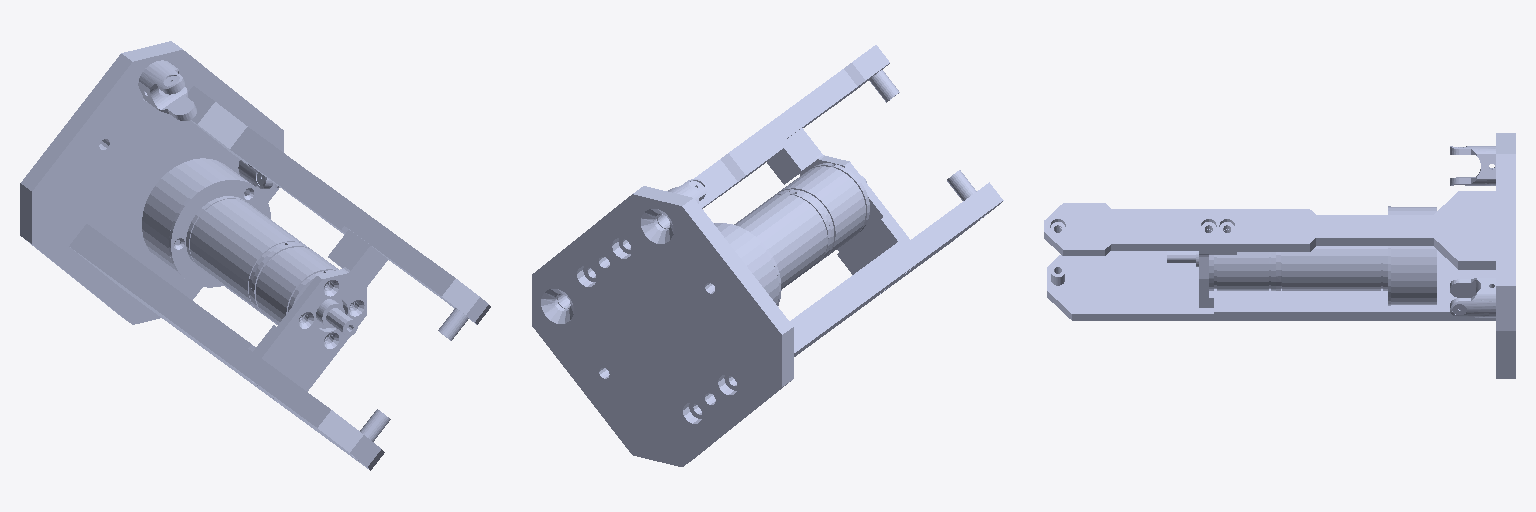
URDF robot description (urdf):
<?xml version="1.0" encoding="utf-8"?>
<!-- This URDF was automatically created by SolidWorks to URDF Exporter! Originally created by [author] ([email redacted]) 
     Commit Version: 1.6.0-4-g7f85cfe  Build Version: 1.6.7995.38578
     For more information, please see http://wiki.ros.org/sw_urdf_exporter -->
<robot
  name="urdf">
  <link
    name="base_link">
    <inertial>
      <origin
        xyz="0.000160852559340272 0.416511988266863 0.00522519390962018"
        rpy="0 0 0" />
      <mass
        value="6.60658072927865" />
      <inertia
        ixx="0.205461268695088"
        ixy="-4.8631130134879E-08"
        ixz="3.31309244336347E-09"
        iyy="0.0632251395598791"
        iyz="-4.46121098307276E-09"
        izz="0.213924141252687" />
    </inertial>
    <visual>
      <origin
        xyz="0 0 0"
        rpy="0 0 0" />
      <geometry>
        <mesh
          filename="package://urdf/meshes/base_link.STL" />
      </geometry>
      <material
        name="">
        <color
          rgba="0.792156862745098 0.819607843137255 0.933333333333333 1" />
      </material>
    </visual>
    <collision>
      <origin
        xyz="0 0 0"
        rpy="0 0 0" />
      <geometry>
        <mesh
          filename="package://urdf/meshes/base_link.STL" />
      </geometry>
    </collision>
  </link>
  <link
    name="s1">
    <inertial>
      <origin
        xyz="-0.0565855661773653 -1.47432999124675E-05 0.0503451976338493"
        rpy="0 0 0" />
      <mass
        value="0.542684124579144" />
      <inertia
        ixx="0.000345761092952399"
        ixy="-3.24050500600486E-07"
        ixz="1.50683178516403E-07"
        iyy="0.000778022471193682"
        iyz="1.07326375799424E-08"
        izz="0.000776671252305068" />
    </inertial>
    <visual>
      <origin
        xyz="0 0 0"
        rpy="0 0 0" />
      <geometry>
        <mesh
          filename="package://urdf/meshes/s1.STL" />
      </geometry>
      <material
        name="">
        <color
          rgba="0.792156862745098 0.819607843137255 0.933333333333333 1" />
      </material>
    </visual>
    <collision>
      <origin
        xyz="0 0 0"
        rpy="0 0 0" />
      <geometry>
        <mesh
          filename="package://urdf/meshes/s1.STL" />
      </geometry>
    </collision>
  </link>
  <joint
    name="s1j"
    type="revolute">
    <origin
      xyz="0 -0.1455 1.1455"
      rpy="1.5708 0 0" />
    <parent
      link="base_link" />
    <child
      link="s1" />
    <axis
      xyz="0 0 1" />
    <limit
      lower="-0.78"
      upper="0.78"
      effort="0"
      velocity="0.35" />
  </joint>
  <link
    name="s2">
    <inertial>
      <origin
        xyz="0.0265368019978267 -0.0360762146328593 0.00202591662662588"
        rpy="0 0 0" />
      <mass
        value="0.0397003268136184" />
      <inertia
        ixx="1.77539568949169E-05"
        ixy="-5.49265597337707E-08"
        ixz="4.46961963342789E-21"
        iyy="9.62749691816005E-06"
        iyz="5.5659379414233E-21"
        izz="1.53865784423673E-05" />
    </inertial>
    <visual>
      <origin
        xyz="0 0 0"
        rpy="0 0 0" />
      <geometry>
        <mesh
          filename="package://urdf/meshes/s2.STL" />
      </geometry>
      <material
        name="">
        <color
          rgba="0.792156862745098 0.819607843137255 0.933333333333333 1" />
      </material>
    </visual>
    <collision>
      <origin
        xyz="0 0 0"
        rpy="0 0 0" />
      <geometry>
        <mesh
          filename="package://urdf/meshes/s2.STL" />
      </geometry>
    </collision>
  </link>
  <joint
    name="s2j"
    type="revolute">
    <origin
      xyz="0 0 0.05"
      rpy="0 0 0" />
    <parent
      link="s1" />
    <child
      link="s2" />
    <axis
      xyz="-1 0 0" />
    <limit
      lower="0"
      upper="1.57"
      effort="0"
      velocity="0.35" />
  </joint>
  <link
    name="s3">
    <inertial>
      <origin
        xyz="-0.0307852686146159 -0.106762715233885 -0.00285680761161178"
        rpy="0 0 0" />
      <mass
        value="0.69346525440976" />
      <inertia
        ixx="0.000632226154715784"
        ixy="3.3846916742775E-06"
        ixz="-2.03216958615076E-06"
        iyy="0.000203793561582271"
        iyz="-7.69131798756883E-08"
        izz="0.000626858789980171" />
    </inertial>
    <visual>
      <origin
        xyz="0 0 0"
        rpy="0 0 0" />
      <geometry>
        <mesh
          filename="package://urdf/meshes/s3.STL" />
      </geometry>
      <material
        name="">
        <color
          rgba="0.792156862745098 0.819607843137255 0.933333333333333 1" />
      </material>
    </visual>
    <collision>
      <origin
        xyz="0 0 0"
        rpy="0 0 0" />
      <geometry>
        <mesh
          filename="package://urdf/meshes/s3.STL" />
      </geometry>
    </collision>
  </link>
  <joint
    name="s3j"
    type="revolute">
    <origin
      xyz="-0.00345 -0.06 0.0036"
      rpy="0 0 0" />
    <parent
      link="s2" />
    <child
      link="s3" />
    <axis
      xyz="0 -1 0" />
    <limit
      lower="-1.57"
      upper="1.57"
      effort="0"
      velocity="0.35" />
  </joint>
  <link
    name="e">
    <inertial>
      <origin
        xyz="0.133914313079551 0.0397090138567681 -0.00135370354868536"
        rpy="0 0 0" />
      <mass
        value="0.524484949455585" />
      <inertia
        ixx="0.000164098535625993"
        ixy="-0.00011555456704967"
        ixz="-1.49937999308697E-06"
        iyy="0.000491486729879123"
        iyz="5.4210279008361E-06"
        izz="0.000537801635705856" />
    </inertial>
    <visual>
      <origin
        xyz="0 0 0"
        rpy="0 0 0" />
      <geometry>
        <mesh
          filename="package://urdf/meshes/e.STL" />
      </geometry>
      <material
        name="">
        <color
          rgba="0.792156862745098 0.819607843137255 0.933333333333333 1" />
      </material>
    </visual>
    <collision>
      <origin
        xyz="0 0 0"
        rpy="0 0 0" />
      <geometry>
        <mesh
          filename="package://urdf/meshes/e.STL" />
      </geometry>
    </collision>
  </link>
  <joint
    name="ej"
    type="revolute">
    <origin
      xyz="-0.005 -0.2835 0"
      rpy="0 0 -0.28935" />
    <parent
      link="s3" />
    <child
      link="e" />
    <axis
      xyz="0 0 1" />
    <limit
      lower="-1.4"
      upper="0.184"
      effort="0"
      velocity="0.13" />
  </joint>
  <link
    name="roll">
    <inertial>
      <origin
        xyz="2.11649564541005E-08 2.17253527112771E-08 -5.72361158468482E-10"
        rpy="0 0 0" />
      <mass
        value="0.0123350072540482" />
      <inertia
        ixx="5.73140316108075E-06"
        ixy="2.39610064059149E-12"
        ixz="2.37221429275288E-12"
        iyy="3.0133459248538E-06"
        iyz="-2.51281711383088E-12"
        izz="3.01335111374677E-06" />
    </inertial>
    <visual>
      <origin
        xyz="0 0 0"
        rpy="0 0 0" />
      <geometry>
        <mesh
          filename="package://urdf/meshes/roll.STL" />
      </geometry>
      <material
        name="">
        <color
          rgba="0.792156862745098 0.819607843137255 0.933333333333333 1" />
      </material>
    </visual>
    <collision>
      <origin
        xyz="0 0 0"
        rpy="0 0 0" />
      <geometry>
        <mesh
          filename="package://urdf/meshes/roll.STL" />
      </geometry>
    </collision>
  </link>
  <joint
    name="rollj"
    type="revolute">
    <origin
      xyz="0.25159 0.0749 0"
      rpy="-1.5708 0 -2.8522" />
    <parent
      link="e" />
    <child
      link="roll" />
    <axis
      xyz="0 0.70711 0.70711" />
    <limit
      lower="-0.26"
      upper="0.26"
      effort="0"
      velocity="0.09" />
  </joint>
  <link
    name="pitch">
    <inertial>
      <origin
        xyz="0.0286089165171641 -0.000144661566694015 0.009855465038871"
        rpy="0 0 0" />
      <mass
        value="0.0576090249075869" />
      <inertia
        ixx="7.09168260696957E-05"
        ixy="-9.04854271559607E-09"
        ixz="-9.02484498992207E-09"
        iyy="3.68466285330398E-05"
        iyz="-3.7654782496613E-07"
        izz="3.68466243102646E-05" />
    </inertial>
    <visual>
      <origin
        xyz="0 0 0"
        rpy="0 0 0" />
      <geometry>
        <mesh
          filename="package://urdf/meshes/pitch.STL" />
      </geometry>
      <material
        name="">
        <color
          rgba="0.792156862745098 0.819607843137255 0.933333333333333 1" />
      </material>
    </visual>
    <collision>
      <origin
        xyz="0 0 0"
        rpy="0 0 0" />
      <geometry>
        <mesh
          filename="package://urdf/meshes/pitch.STL" />
      </geometry>
    </collision>
  </link>
  <joint
    name="pitchj"
    type="revolute">
    <origin
      xyz="0 0.01 0"
      rpy="-1.5708 0 3.1416" />
    <parent
      link="roll" />
    <child
      link="pitch" />
    <axis
      xyz="0 0.70711 -0.70711" />
    <limit
      lower="-0.26"
      upper="0.26"
      effort="0"
      velocity="0.09" />
  </joint>
  <link
    name="yaw">
    <inertial>
      <origin
        xyz="0.121145515511824 -0.00274393412138674 -0.00280619674961233"
        rpy="0 0 0" />
      <mass
        value="0.288045639627102" />
      <inertia
        ixx="0.000166764800385917"
        ixy="1.15318815602555E-05"
        ixz="-2.72502292894343E-07"
        iyy="0.000292613552431781"
        iyz="3.6036191451638E-08"
        izz="0.000214965635544534" />
    </inertial>
    <visual>
      <origin
        xyz="0 0 0"
        rpy="0 0 0" />
      <geometry>
        <mesh
          filename="package://urdf/meshes/yaw.STL" />
      </geometry>
      <material
        name="">
        <color
          rgba="0.792156862745098 0.819607843137255 0.933333333333333 1" />
      </material>
    </visual>
    <collision>
      <origin
        xyz="0 0 0"
        rpy="0 0 0" />
      <geometry>
        <mesh
          filename="package://urdf/meshes/yaw.STL" />
      </geometry>
    </collision>
  </link>
  <joint
    name="yawj"
    type="revolute">
    <origin
      xyz="0.01 0 0.01"
      rpy="0 0 0" />
    <parent
      link="pitch" />
    <child
      link="yaw" />
    <axis
      xyz="-1 0 0" />
    <limit
      lower="-3.0"
      upper="3.0"
      effort="0"
      velocity="1.75" />
  </joint>

    <gazebo reference="base_link">
      <turnGravityOff>true</turnGravityOff>
    </gazebo>
    <gazebo reference="s1">
      <turnGravityOff>true</turnGravityOff>
    </gazebo>
    <gazebo reference="s2">
      <turnGravityOff>true</turnGravityOff>
    </gazebo>
    <gazebo reference="s3">
      <turnGravityOff>true</turnGravityOff>
    </gazebo>
    <gazebo reference="e">
      <turnGravityOff>true</turnGravityOff>
    </gazebo>
    <gazebo reference="roll">
      <turnGravityOff>true</turnGravityOff>
    </gazebo>
    <gazebo reference="pitch">
      <turnGravityOff>true</turnGravityOff>
    </gazebo>
    <gazebo reference="yaw">
      <turnGravityOff>true</turnGravityOff>
    </gazebo>

</robot>

--- Facts derived from the render (not from the file) ---
The picture shows the robot from 3 angles, left to right: view 1: azimuth 30°, elevation 25°; view 2: azimuth 150°, elevation 25°; view 3: azimuth 270°, elevation 25°; orthographic projection.
Robot: urdf — 8 links, 7 joints (7 revolute); root link base_link; default pose: all joints at 0.
Links seen in each view (by area): view 1: base_link; view 2: base_link; view 3: base_link.
Link boxes in pixels (left/top/right/bottom): base_link: left=20, top=41, right=490, bottom=470; base_link: left=532, top=45, right=1003, bottom=466; base_link: left=1044, top=133, right=1515, bottom=378.
Bounding box of the posed robot: 0.1 × 0.19 × 0.1 m (x, y, z).
1 mesh visuals loaded from 8 distinct referenced files (1 binary STL); not drawn: 7 (reference not matched to a file when rendering).